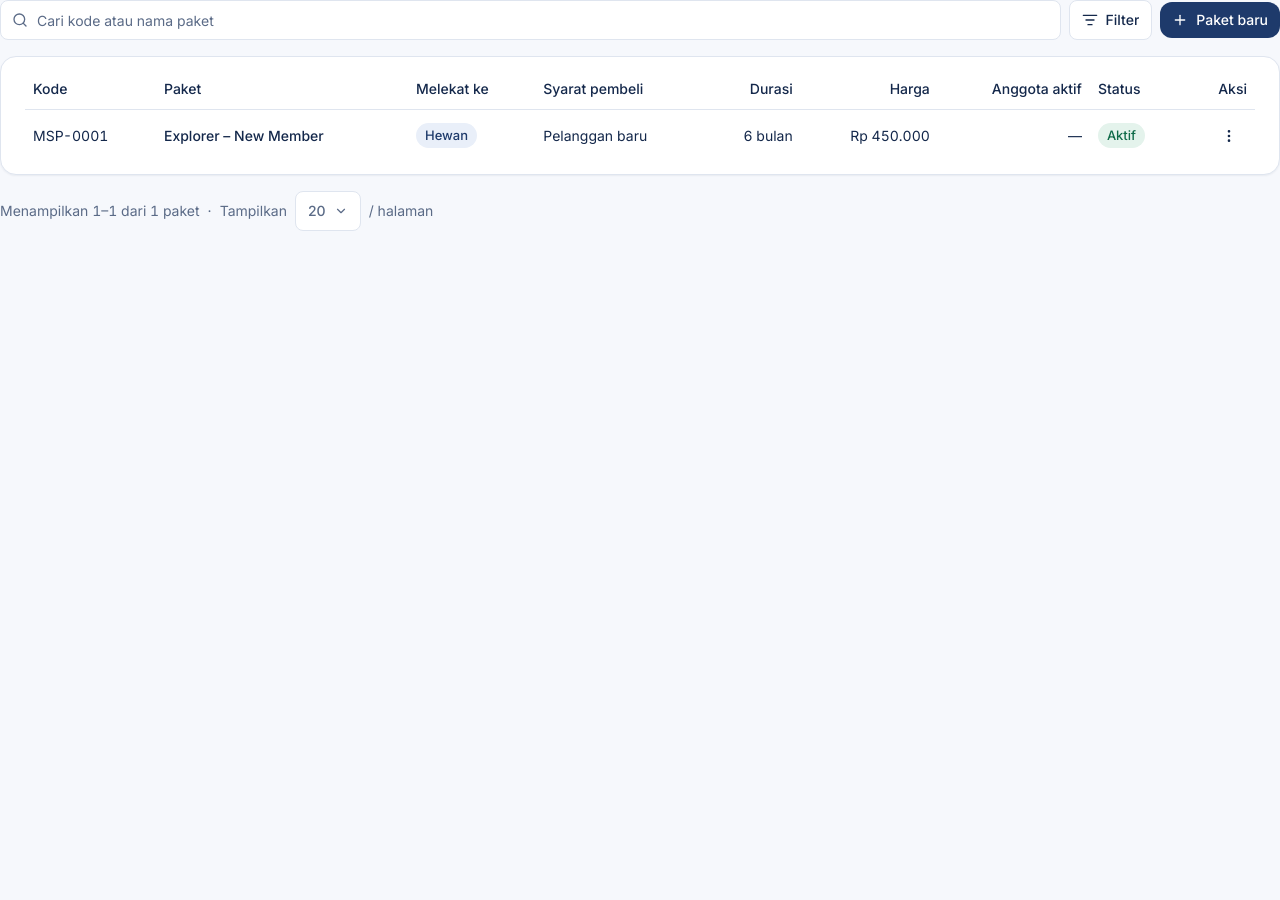
Test: MembershipPlansPanel › filters by Melekat ke and Syarat pembeli on the server
Expected: the link "Explorer – New Member" is shown, [164, 126, 324, 144]
Note: Both live in the Filter panel and apply together on Terapkan.
Click the button "Filter" at [1110, 20], box [1068, 0, 1152, 40]
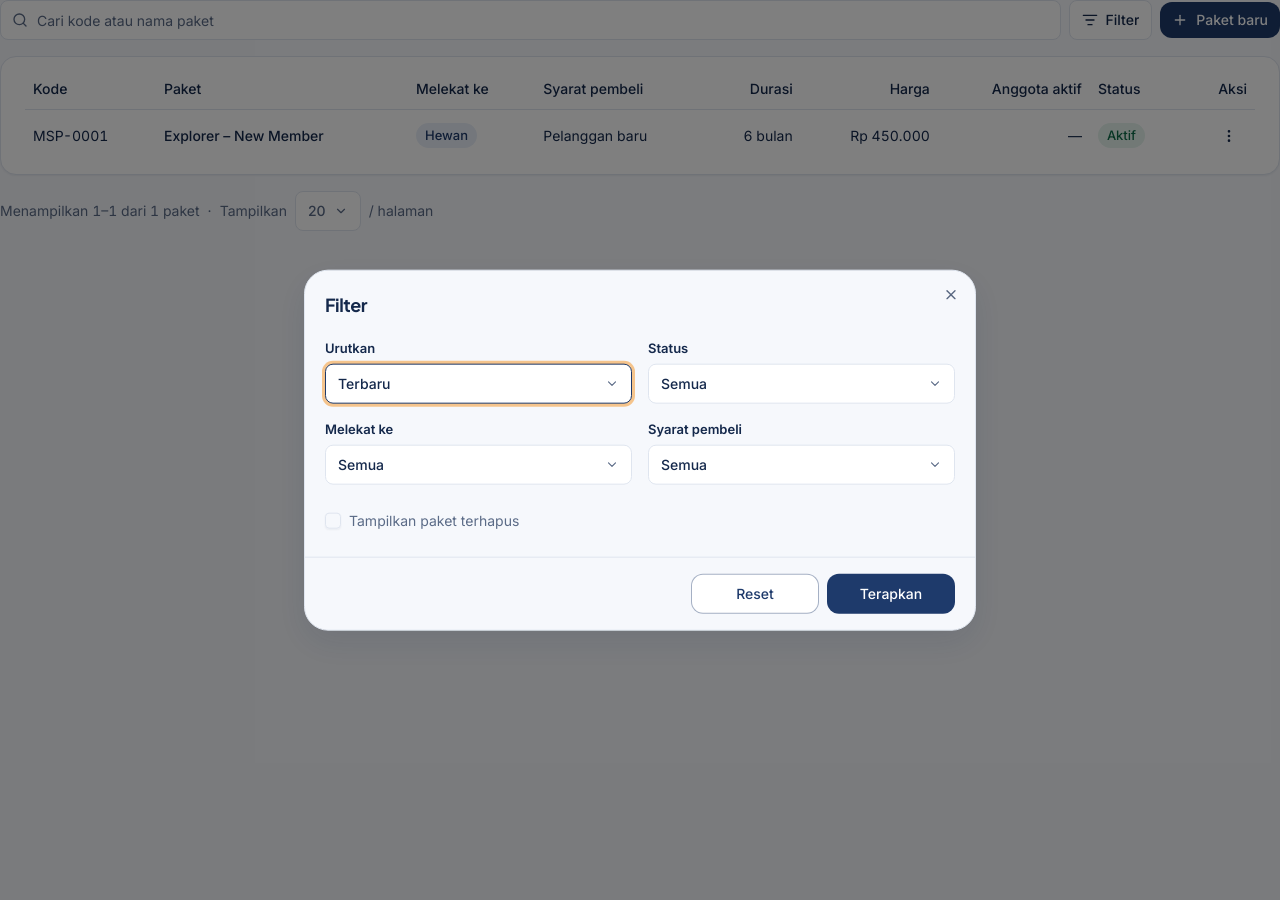
Click the button with aria-label "Filter melekat ke" at [361, 464], box [325, 444, 632, 484]
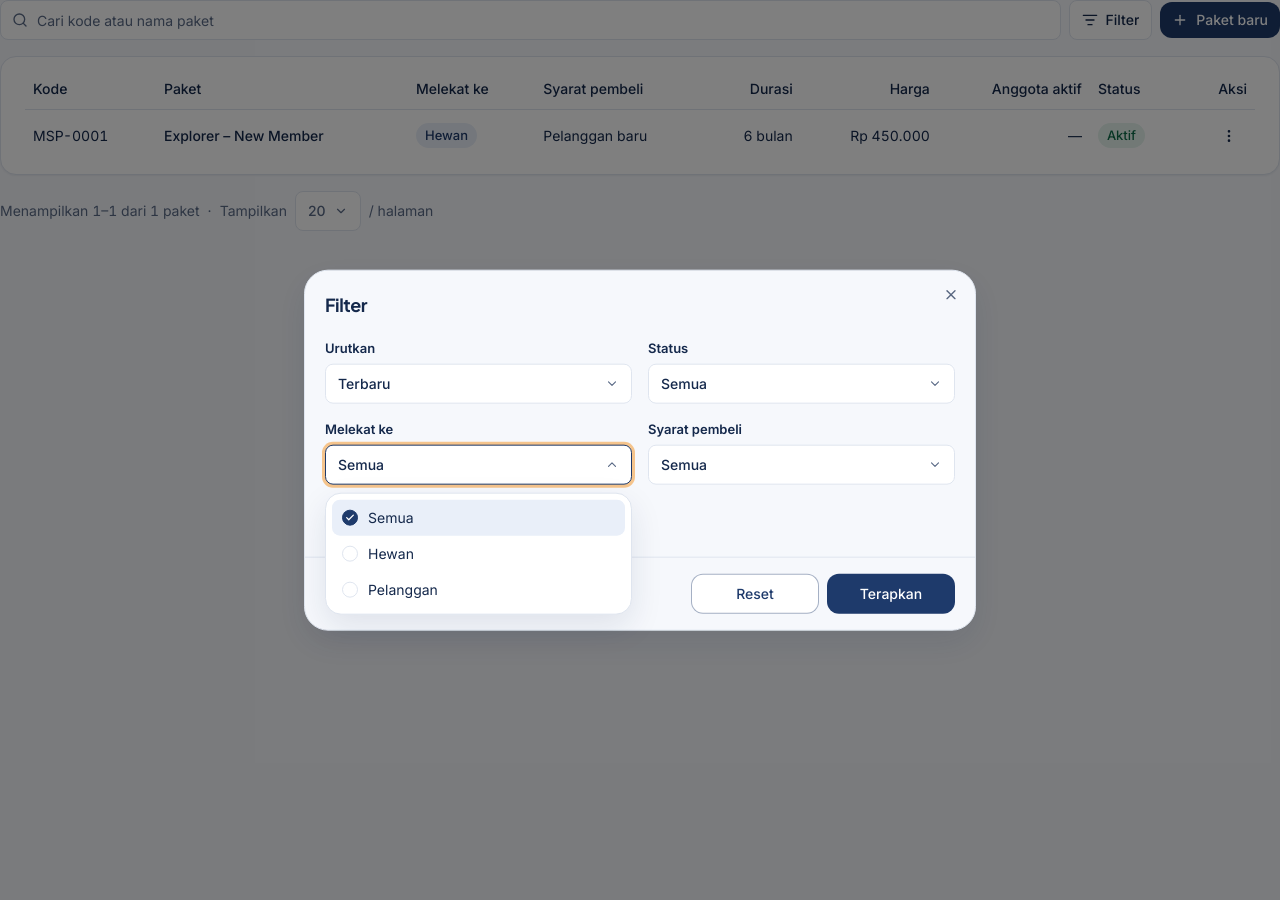
Click the option "Pelanggan" at [390, 589], box [342, 581, 438, 598]
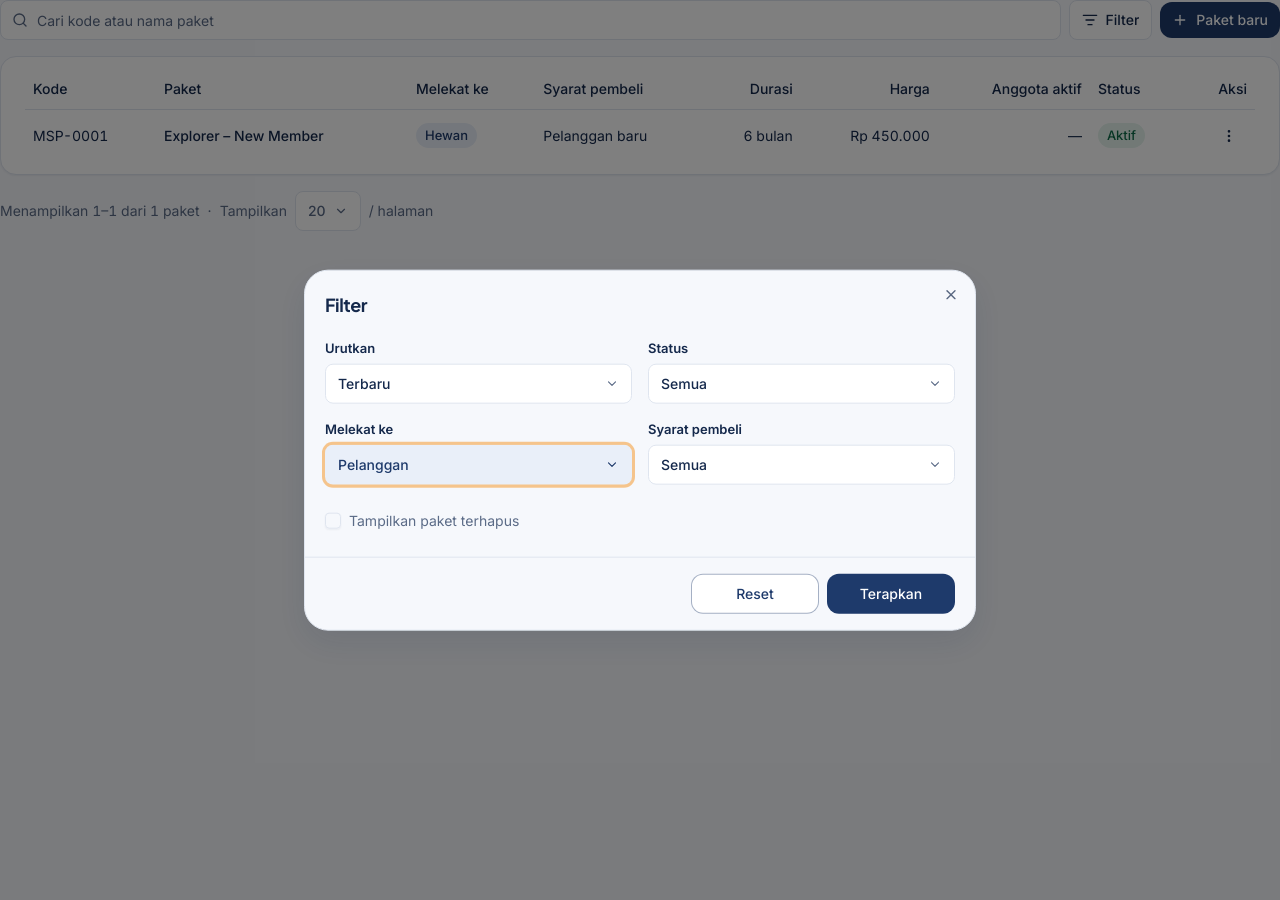
Click the button with aria-label "Filter syarat pembeli" at [684, 464], box [648, 444, 955, 484]
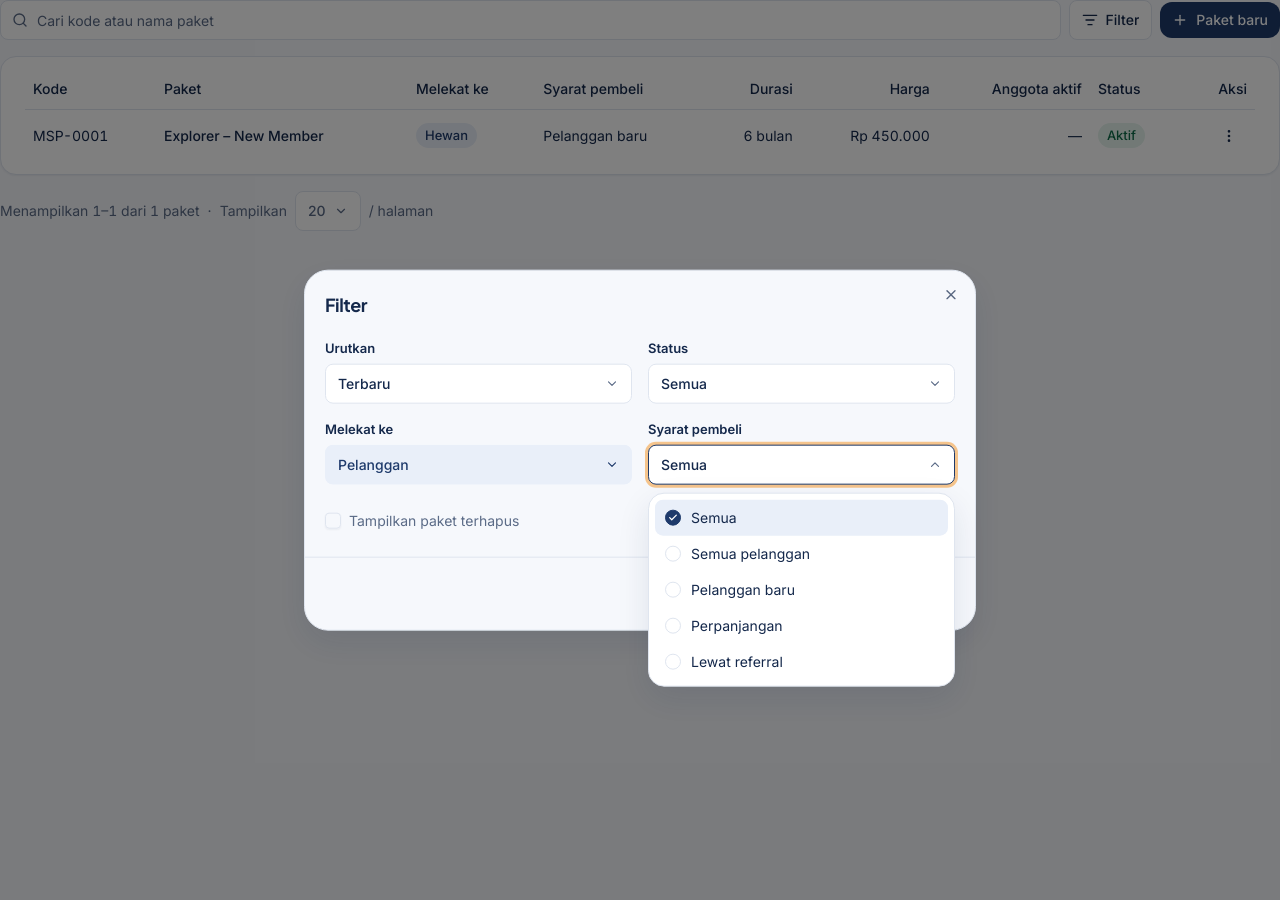
Click the option "Lewat referral" at [724, 661], box [665, 653, 783, 670]
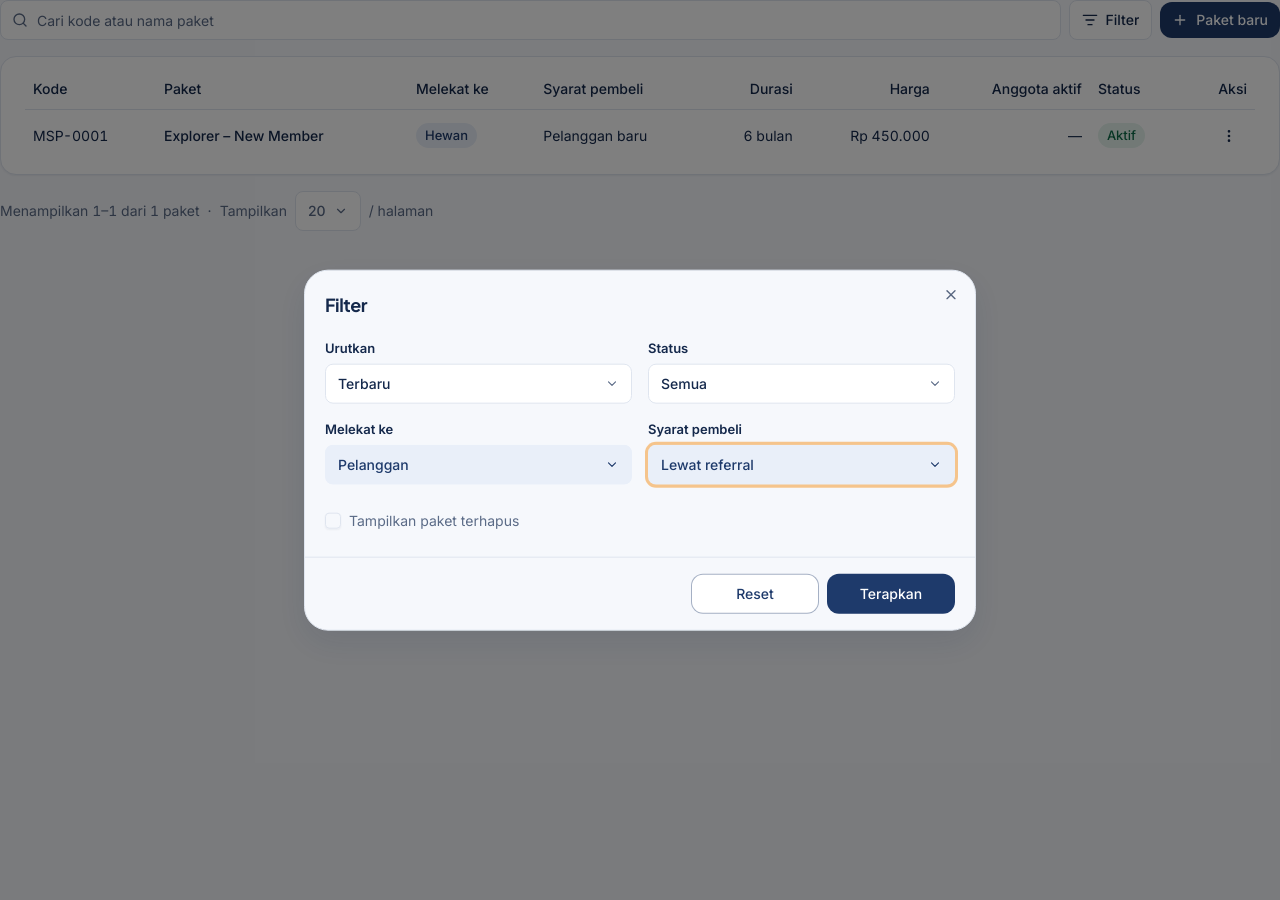
Click the button "Terapkan" at [891, 593], box [827, 573, 955, 613]
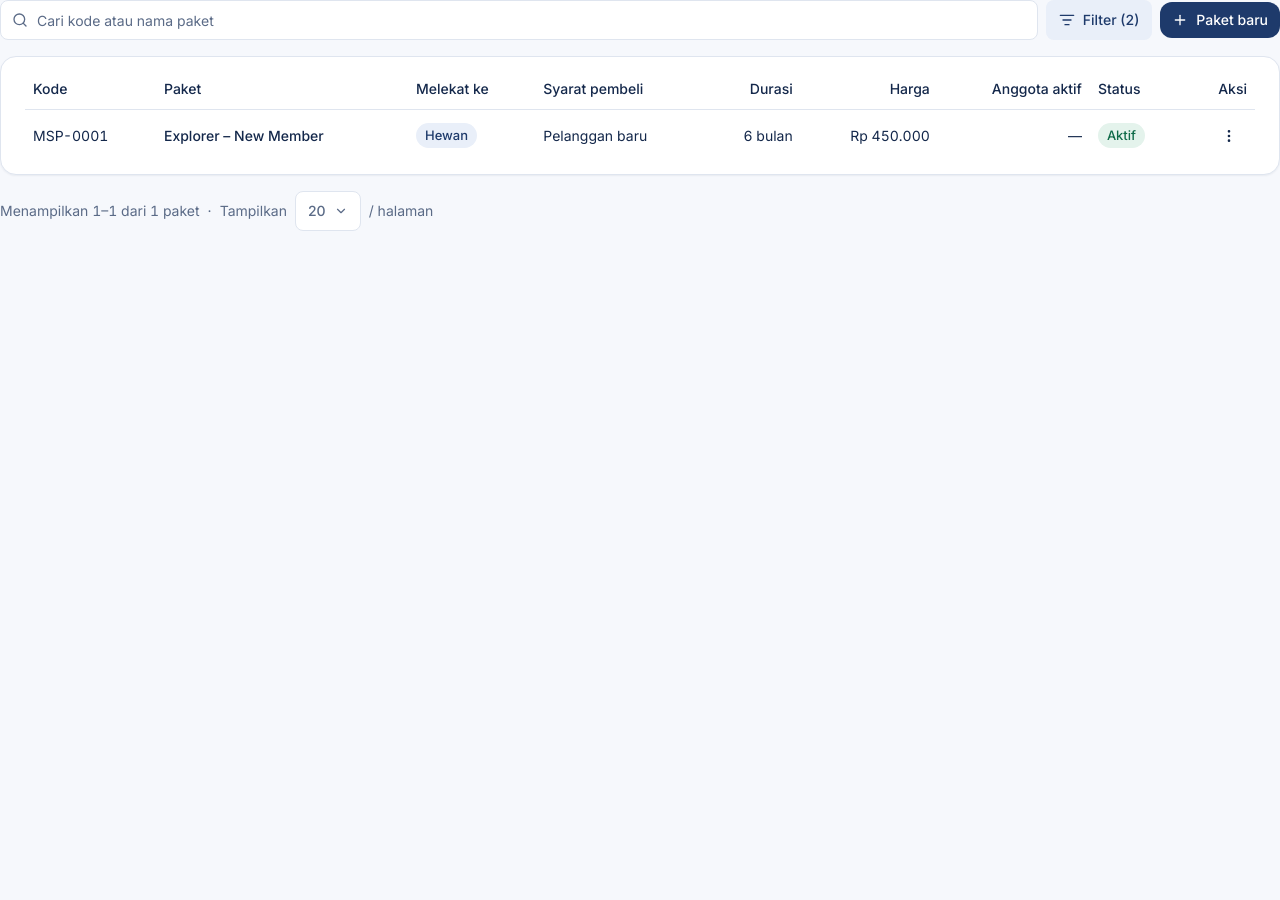
Expected: the button "Filter (2)" is shown, [1046, 0, 1152, 40]
